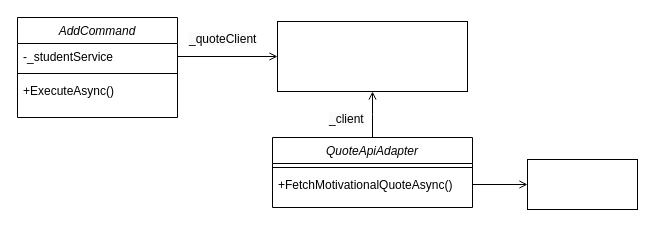
Image size: 655x227. Some labels were removed from this diagram. The centre of each missing label's shape, as x and y in pixels:
"<<Interface>> IQuoteApiClient +GetRandomQuoteAsync()" goes at pixel 372 56.
"quotable.io" goes at pixel 582 184.
